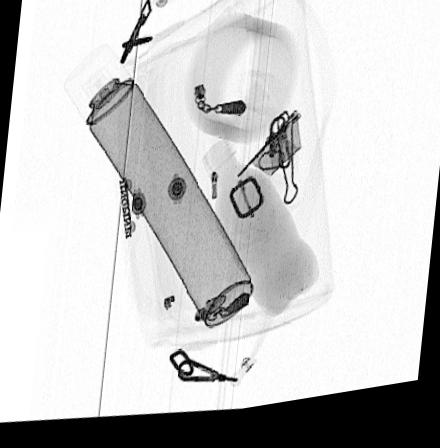Sprayer: (62, 45, 256, 334)
